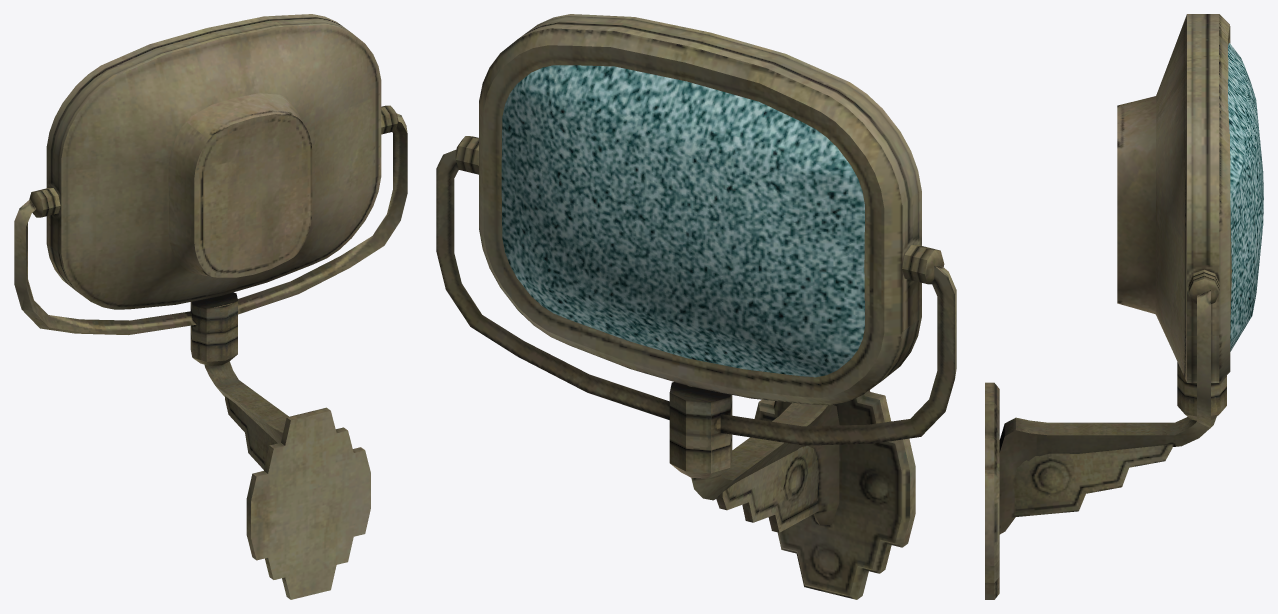
3 renders of one model, left to right at view 1: azimuth 30°, elevation 25°; view 2: azimuth 150°, elevation 25°; view 3: azimuth 270°, elevation 25°, orthographic. The views are drawn at different scales.
Visible parts, largest first — view 1: tv_wall_mounted; view 2: tv_wall_mounted, tv_wall_mounted.001; view 3: tv_wall_mounted, tv_wall_mounted.001.
Boxes of the visible parts, x1=… form: tv_wall_mounted: x1=14, y1=14, x2=407, y2=599; tv_wall_mounted: x1=436, y1=14, x2=956, y2=599; tv_wall_mounted.001: x1=501, y1=65, x2=864, y2=377; tv_wall_mounted: x1=985, y1=14, x2=1231, y2=599; tv_wall_mounted.001: x1=1228, y1=43, x2=1263, y2=351.
Size of the model in its own units: 10288 by 12234 by 5800.
